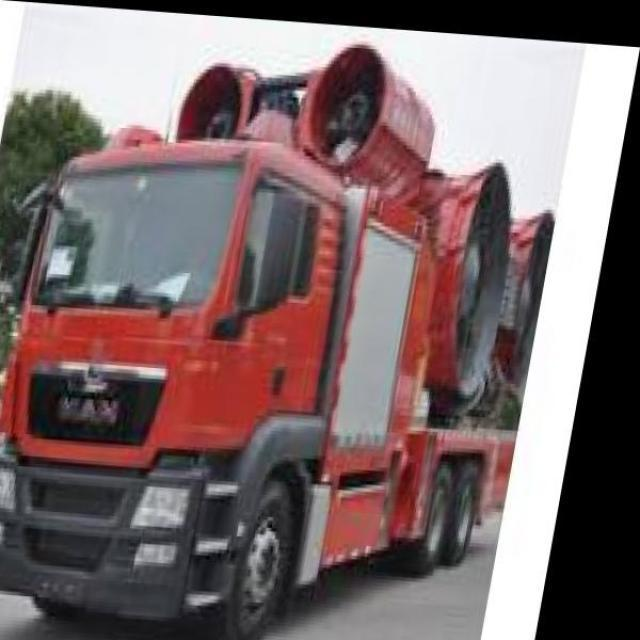emergency: (1, 42, 556, 638)
